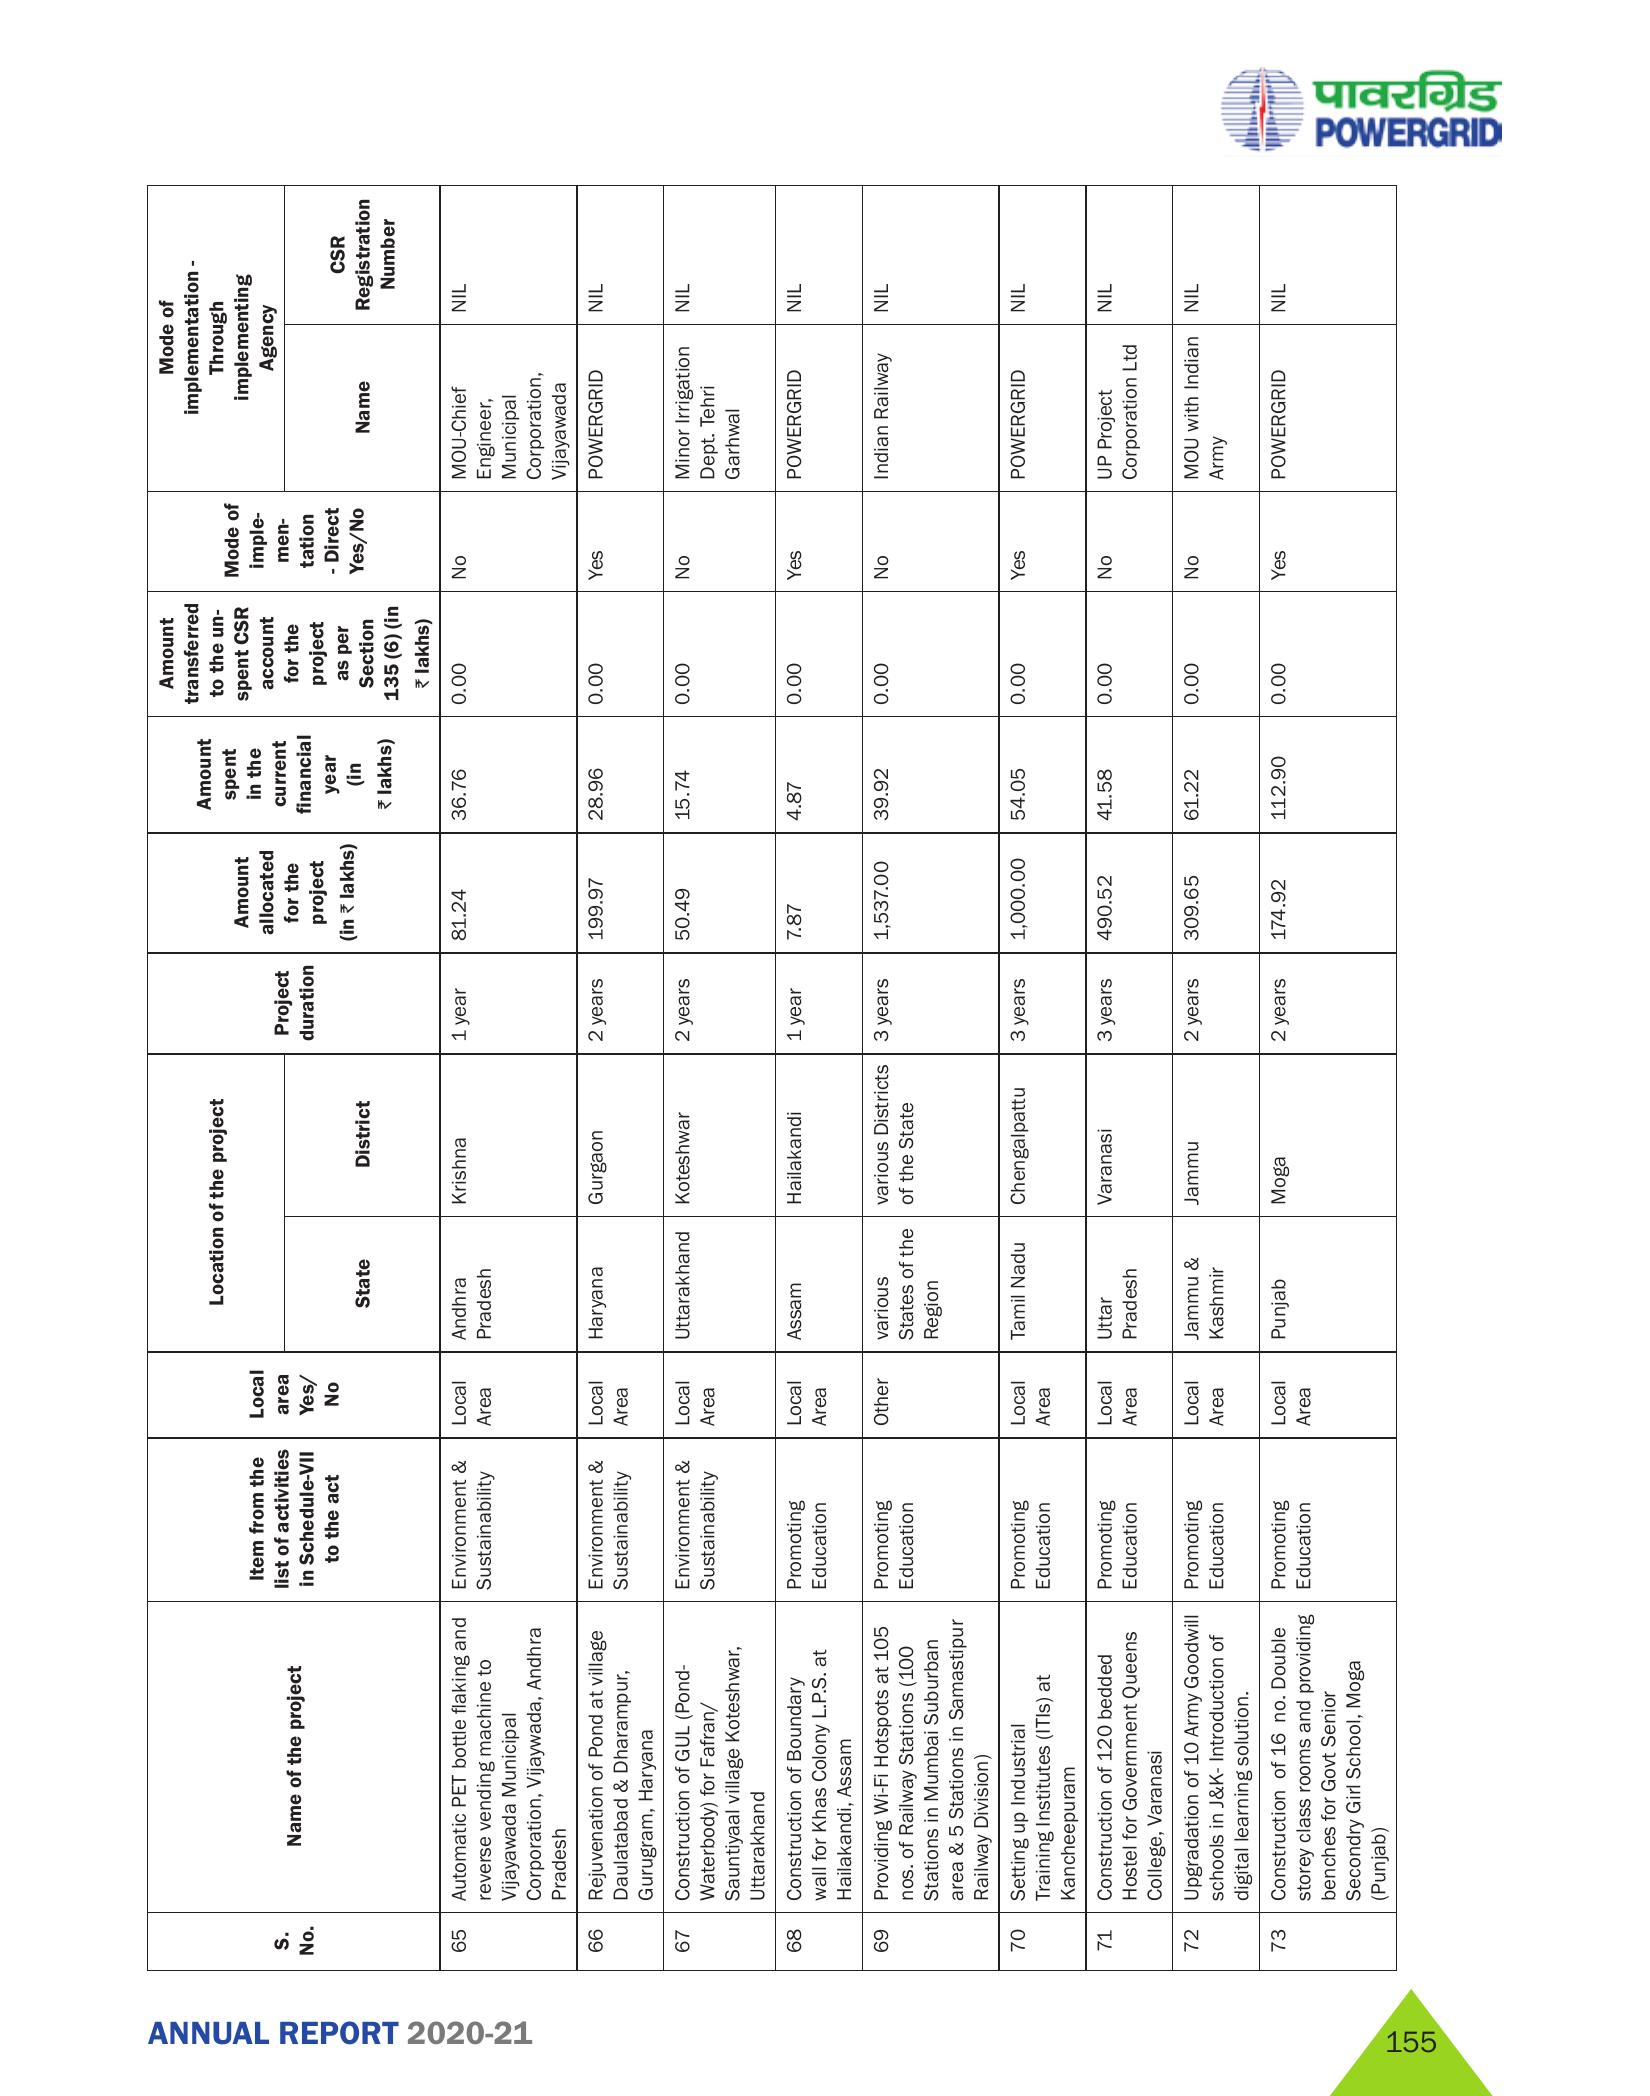Footer: (0, 1979, 1650, 2096)
Header: (0, 0, 1650, 163)
Table: (73, 163, 1431, 1982)
